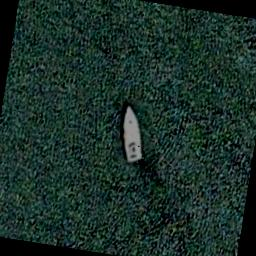boat: (113, 100, 152, 164)
